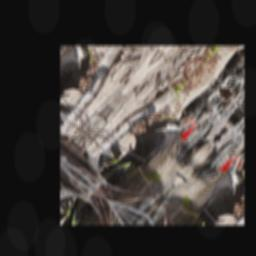Woodpecker: (87, 76, 211, 199)
